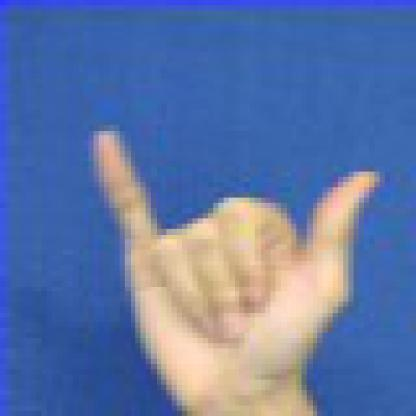six: (67, 104, 400, 411)
